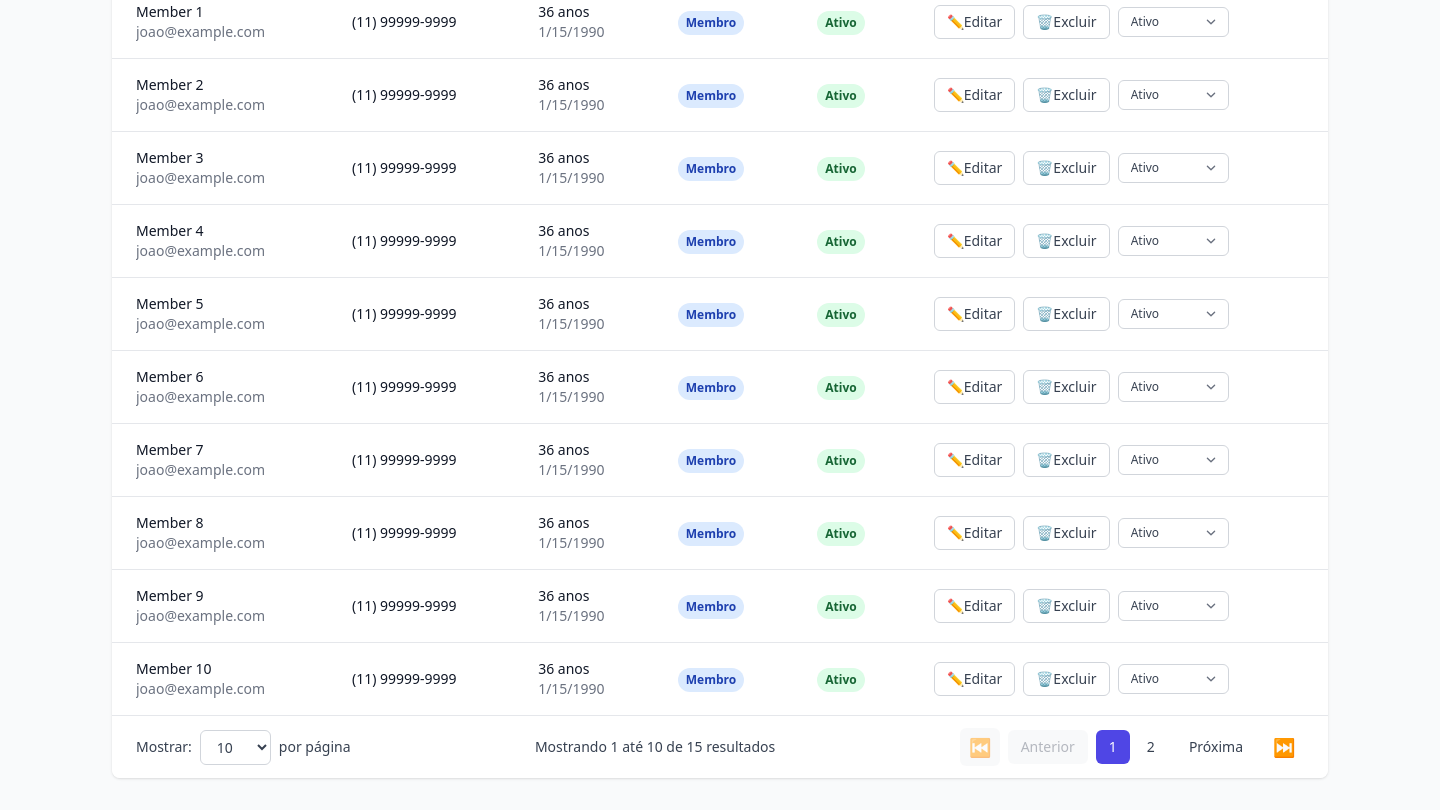
Test case: MembersManagementPage › Pagination › should reset to page 1 when filters change
(page scrolled)
Expected: the text "Member 1" is shown, [136, 2, 204, 21]
// Go to page 2
Click the button "Próxima" at [1216, 747], box [1176, 730, 1256, 764]
(page scrolled)
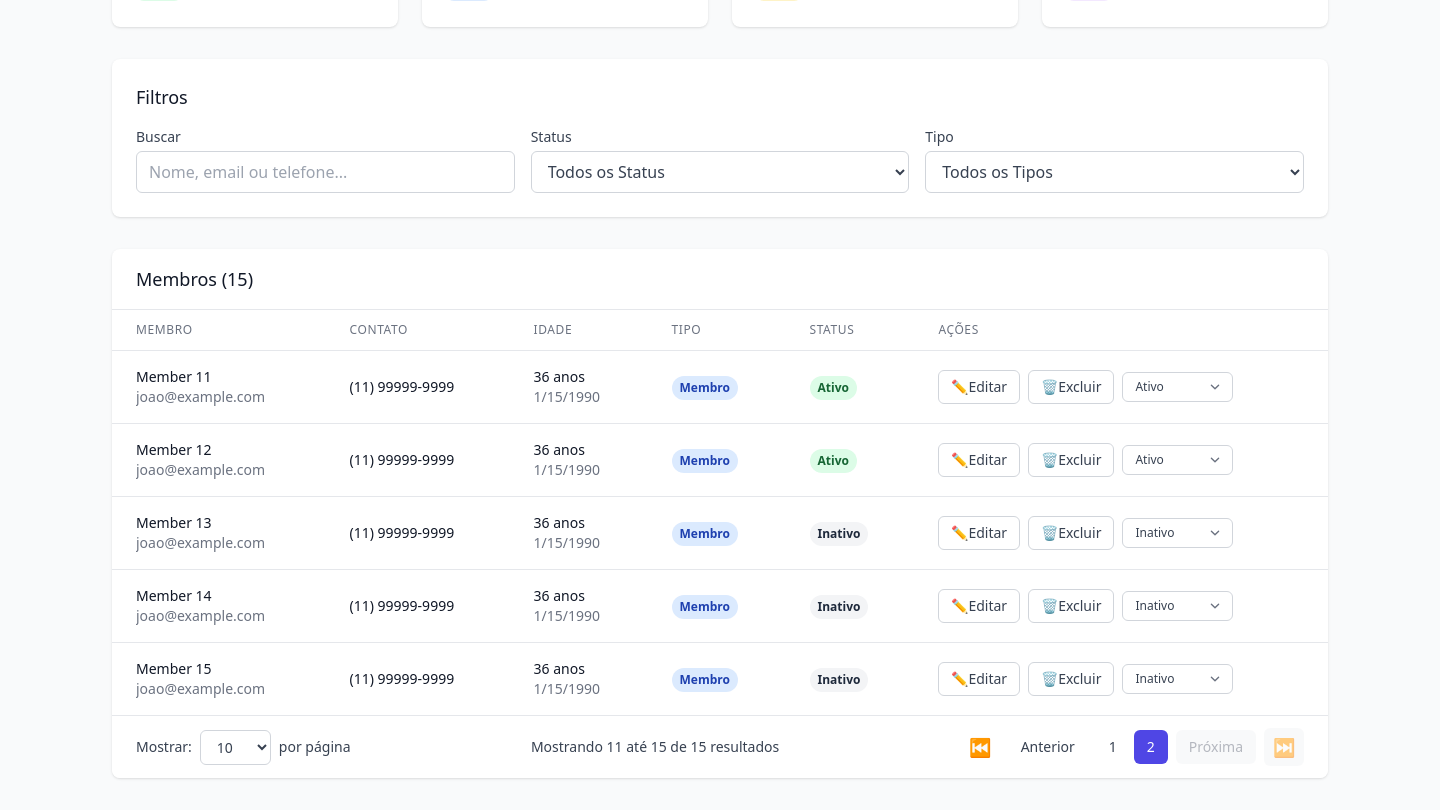
// Change filter - should reset to page 1
Type "Member 1" into the field with placeholder "Nome, email ou telefone..." at [325, 172], box [136, 151, 515, 193]
(page scrolled)
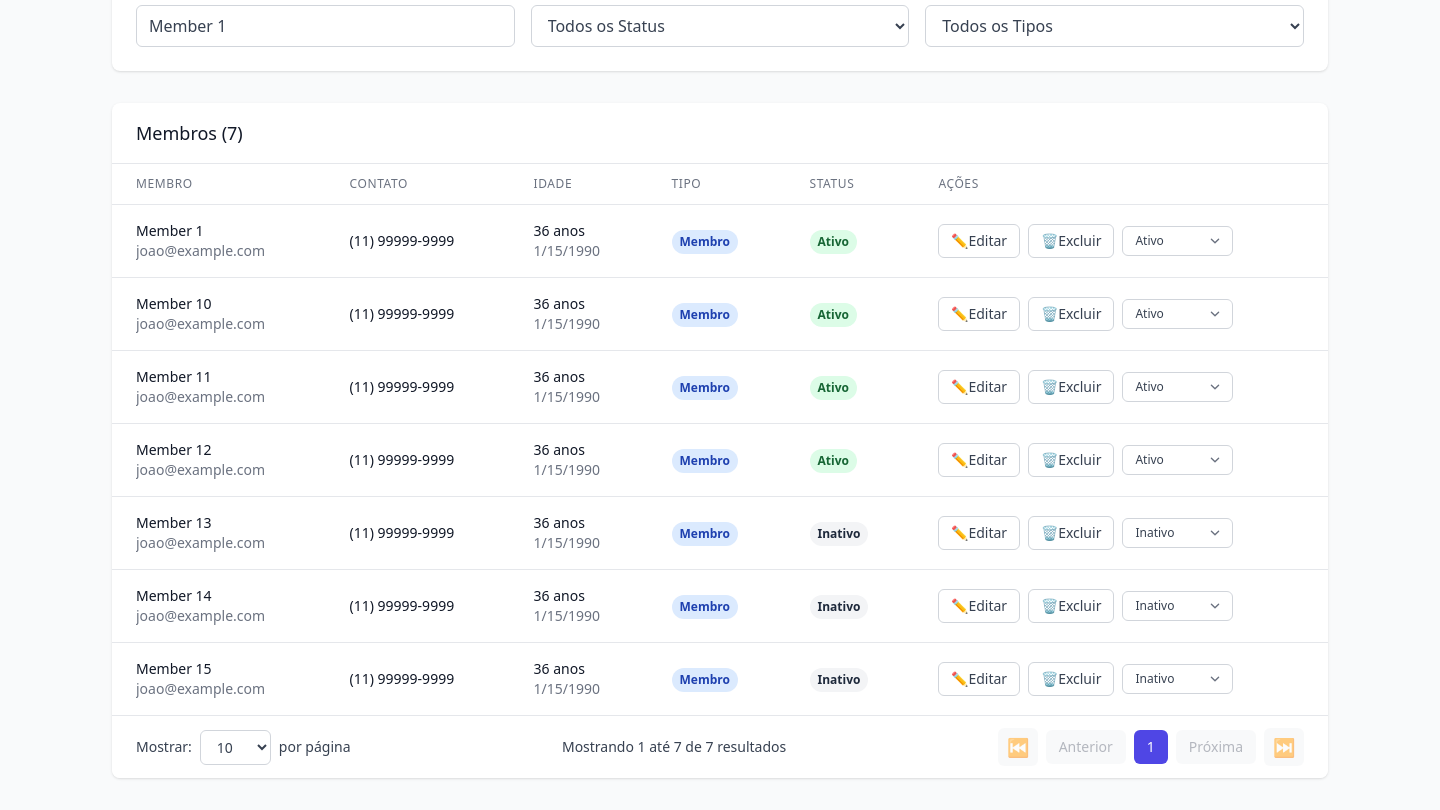
Expected: the text "Member 1" is shown, [136, 221, 204, 240]
